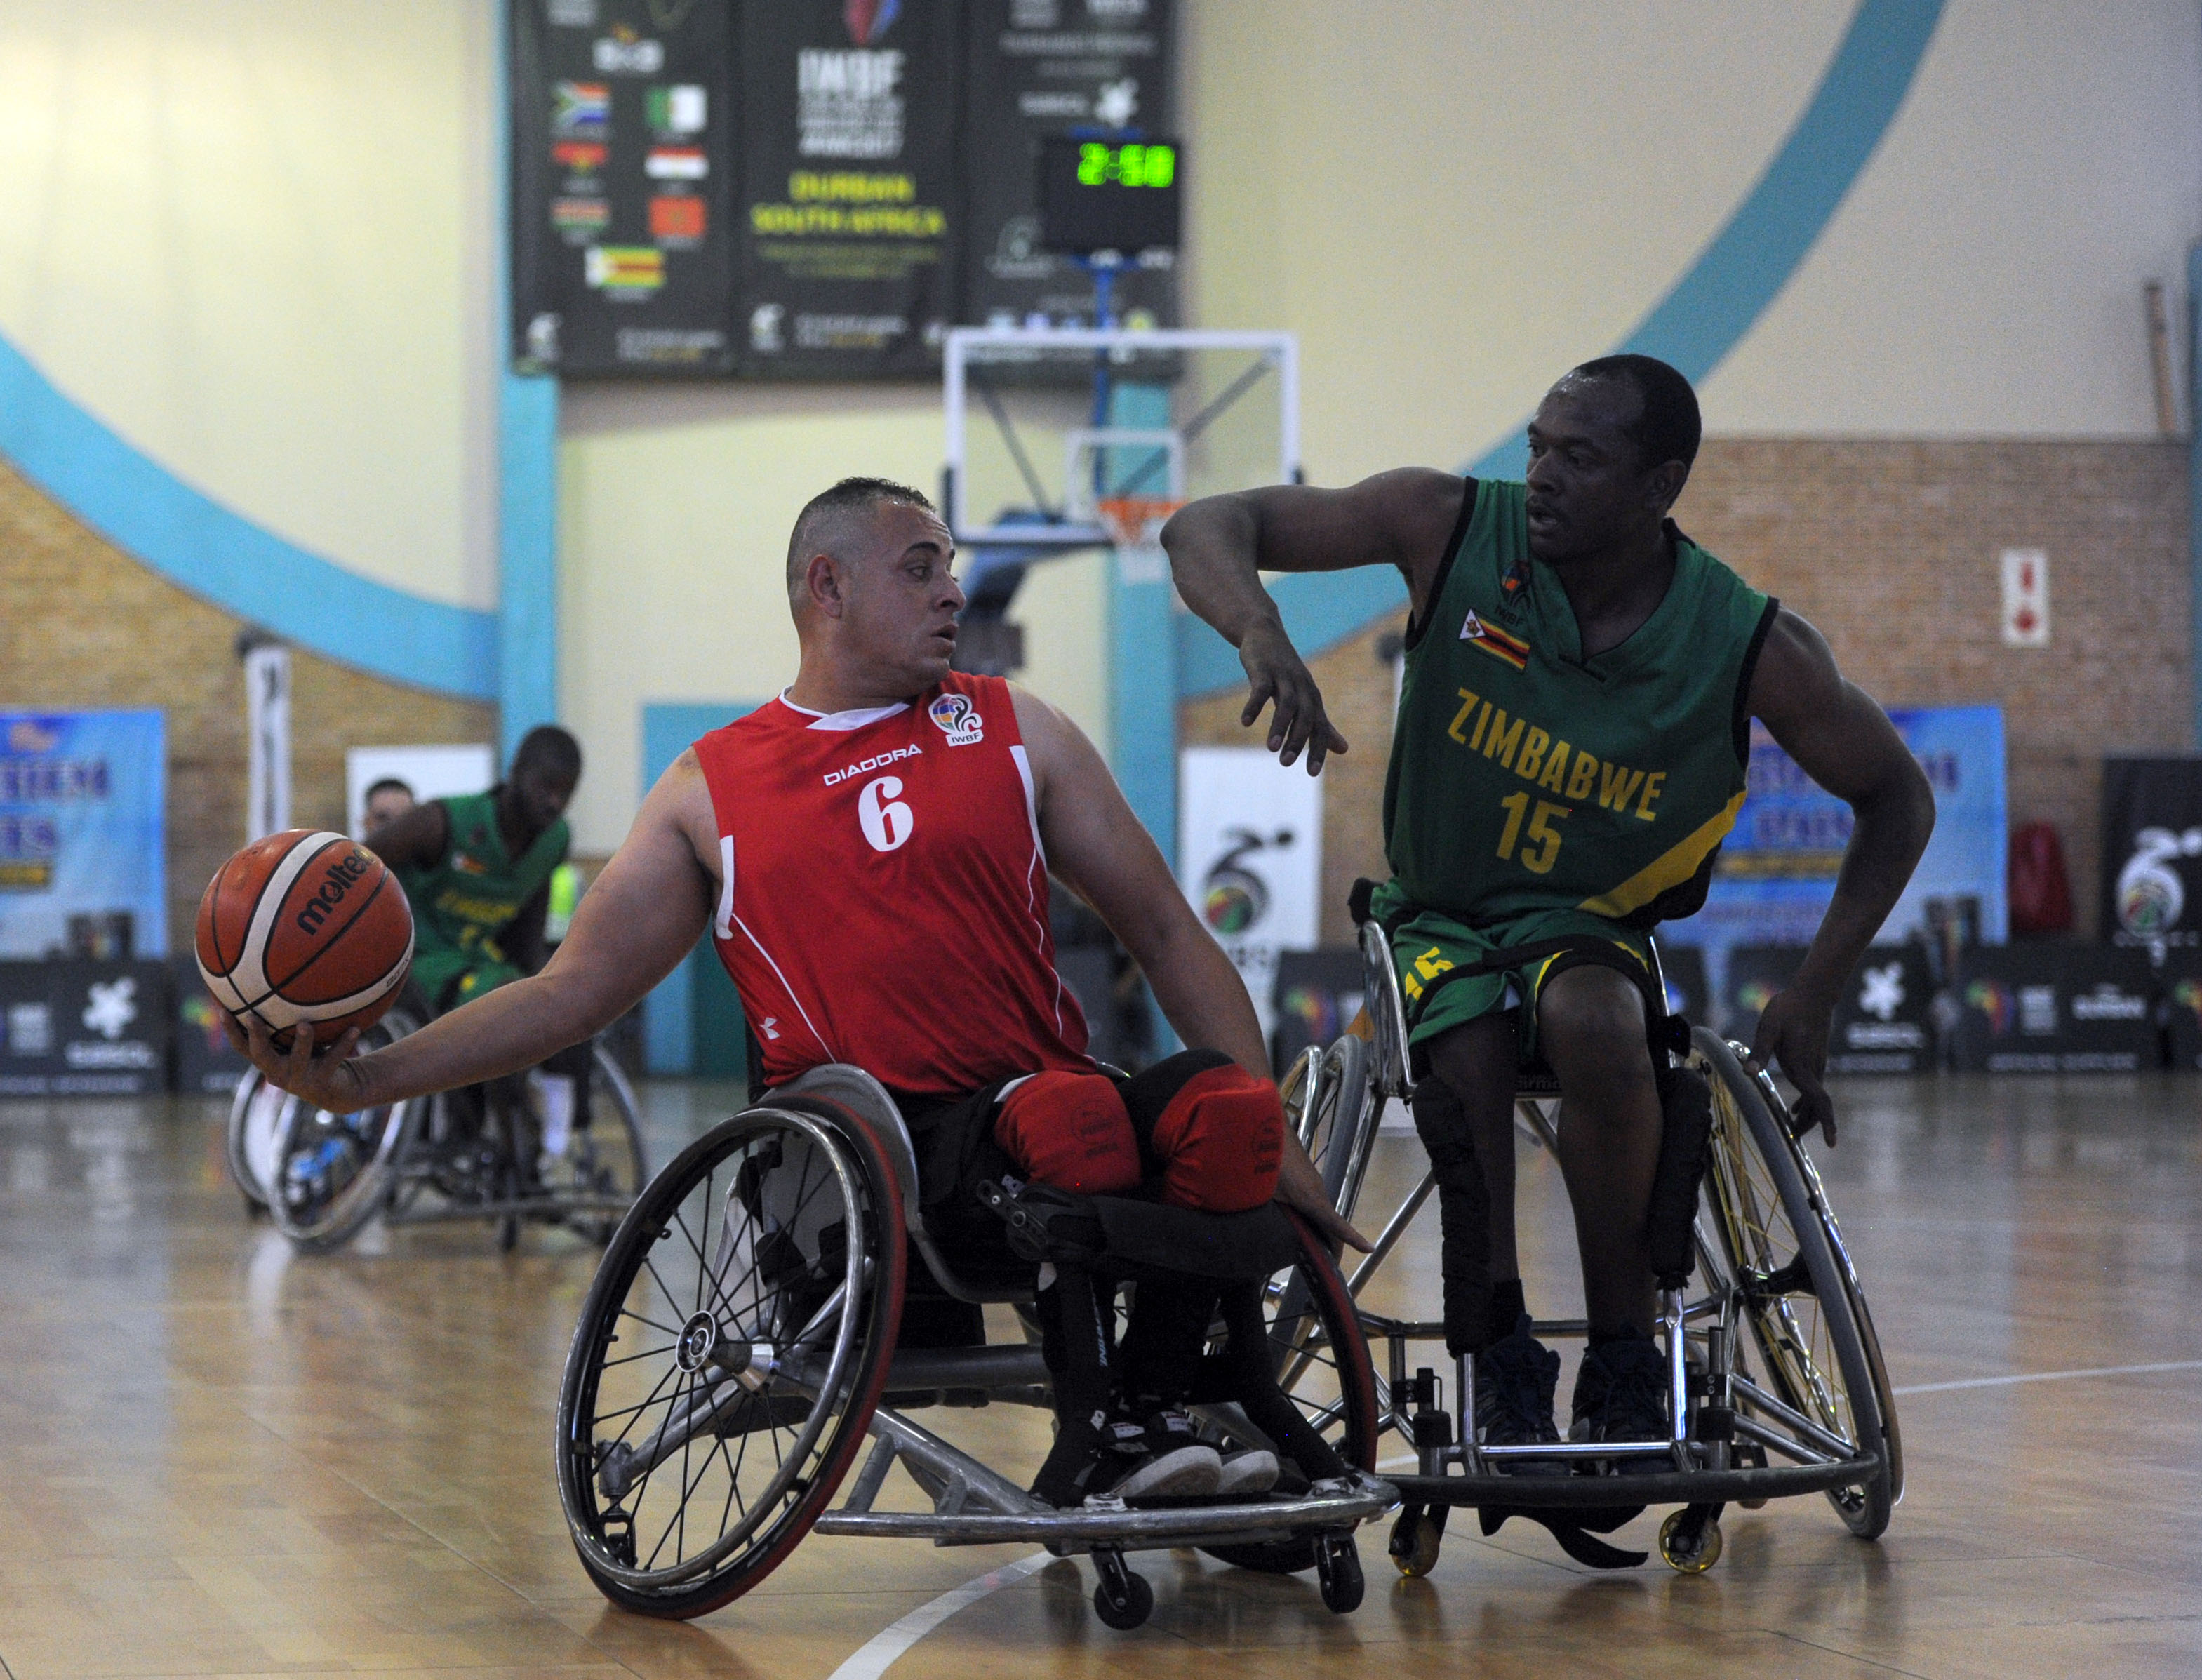wheelchair: (392, 468, 1366, 1627), (1163, 348, 1943, 1572)
